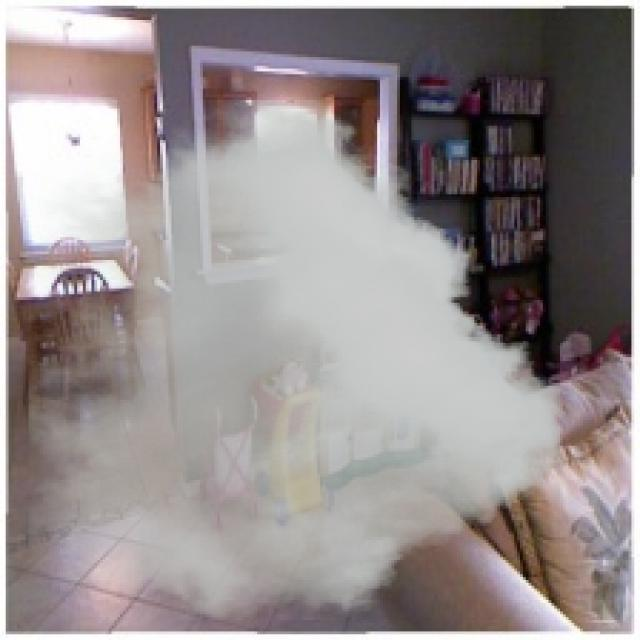Smoke: (28, 100, 563, 620)
